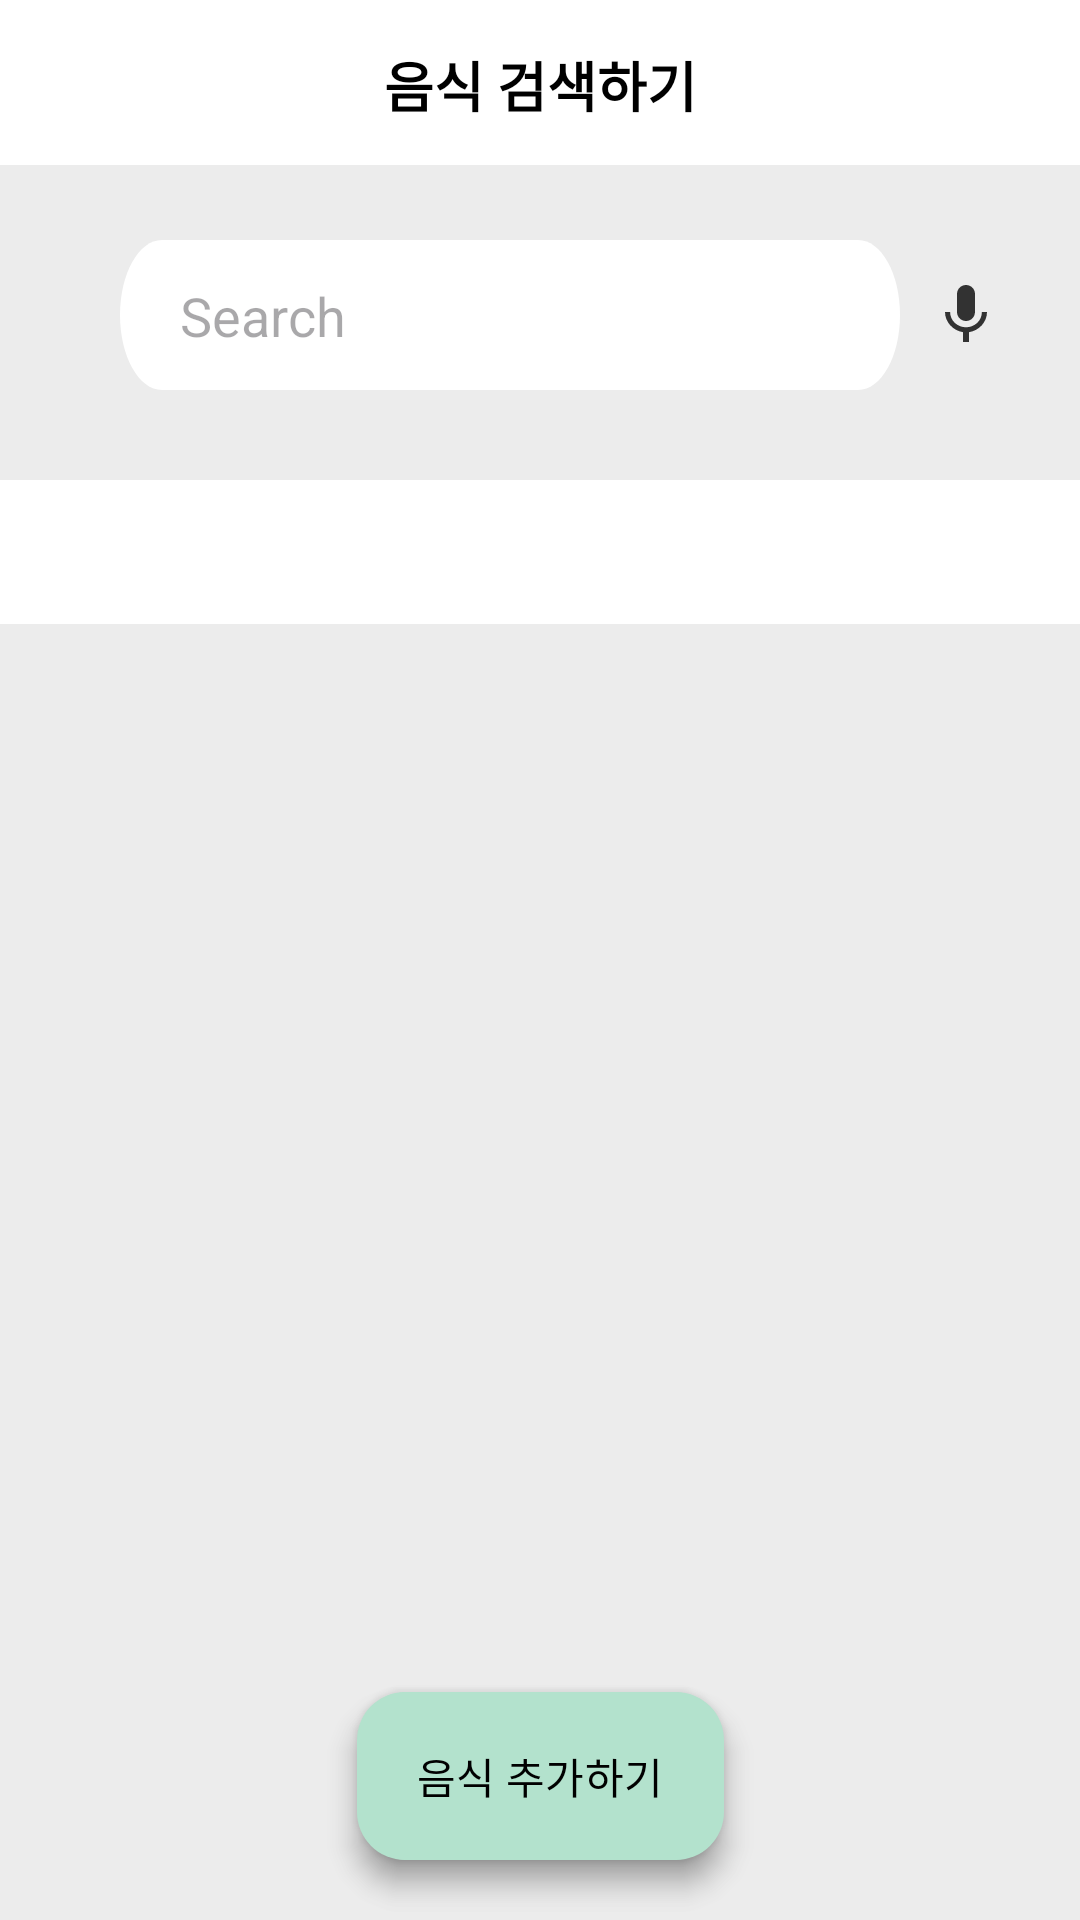

Icons on this 1080x1920 Android screen, each with the point to tap as (x=x, y=y):
mic: (x=966, y=313)
